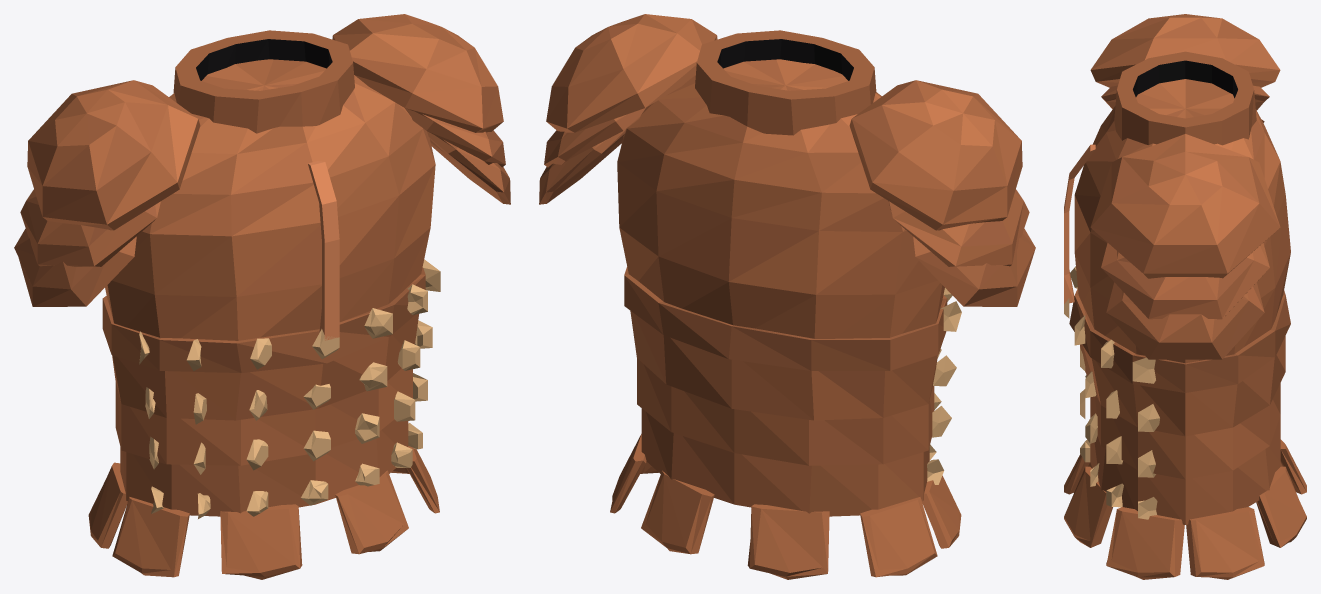
Rendered from B01_1_copper_scale_platebody.obj.
3 renders of one model, left to right at view 1: azimuth 30°, elevation 25°; view 2: azimuth 150°, elevation 25°; view 3: azimuth 270°, elevation 25°, orthographic. The views are drawn at different scales.
Parts seen in each view (by area): view 1: B01_1_copper_scale_platebody; view 2: B01_1_copper_scale_platebody; view 3: B01_1_copper_scale_platebody.
Part boxes in pixels (x1,y1,x2,y2): B01_1_copper_scale_platebody: (14, 14, 510, 579); B01_1_copper_scale_platebody: (539, 14, 1035, 579); B01_1_copper_scale_platebody: (1064, 14, 1306, 579).
Bounding box in the file's own units: 94 × 90 × 46.
